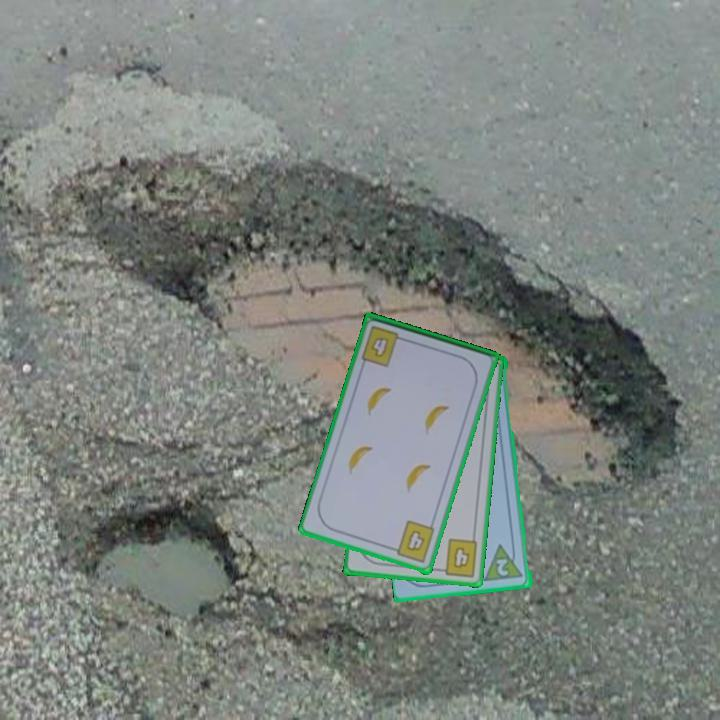2p: (493, 556, 511, 579)
4b: (387, 517, 437, 566), (434, 535, 481, 580), (367, 334, 392, 361)
